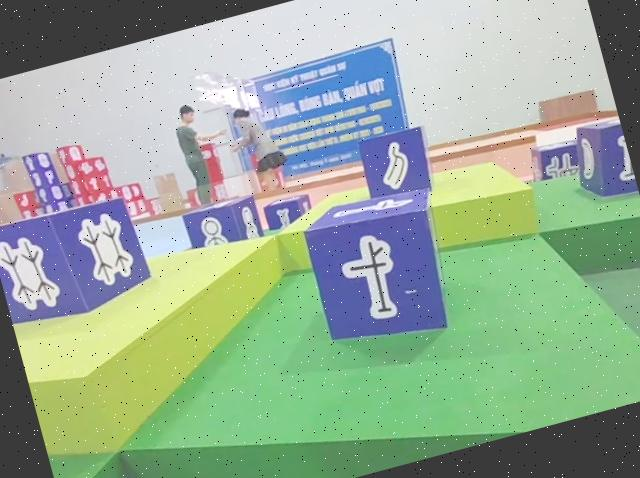R2 Real Blue: (298, 180, 467, 360), (0, 188, 152, 331), (562, 113, 640, 211), (352, 122, 437, 208), (179, 191, 262, 254), (523, 136, 583, 184), (261, 190, 315, 229)
